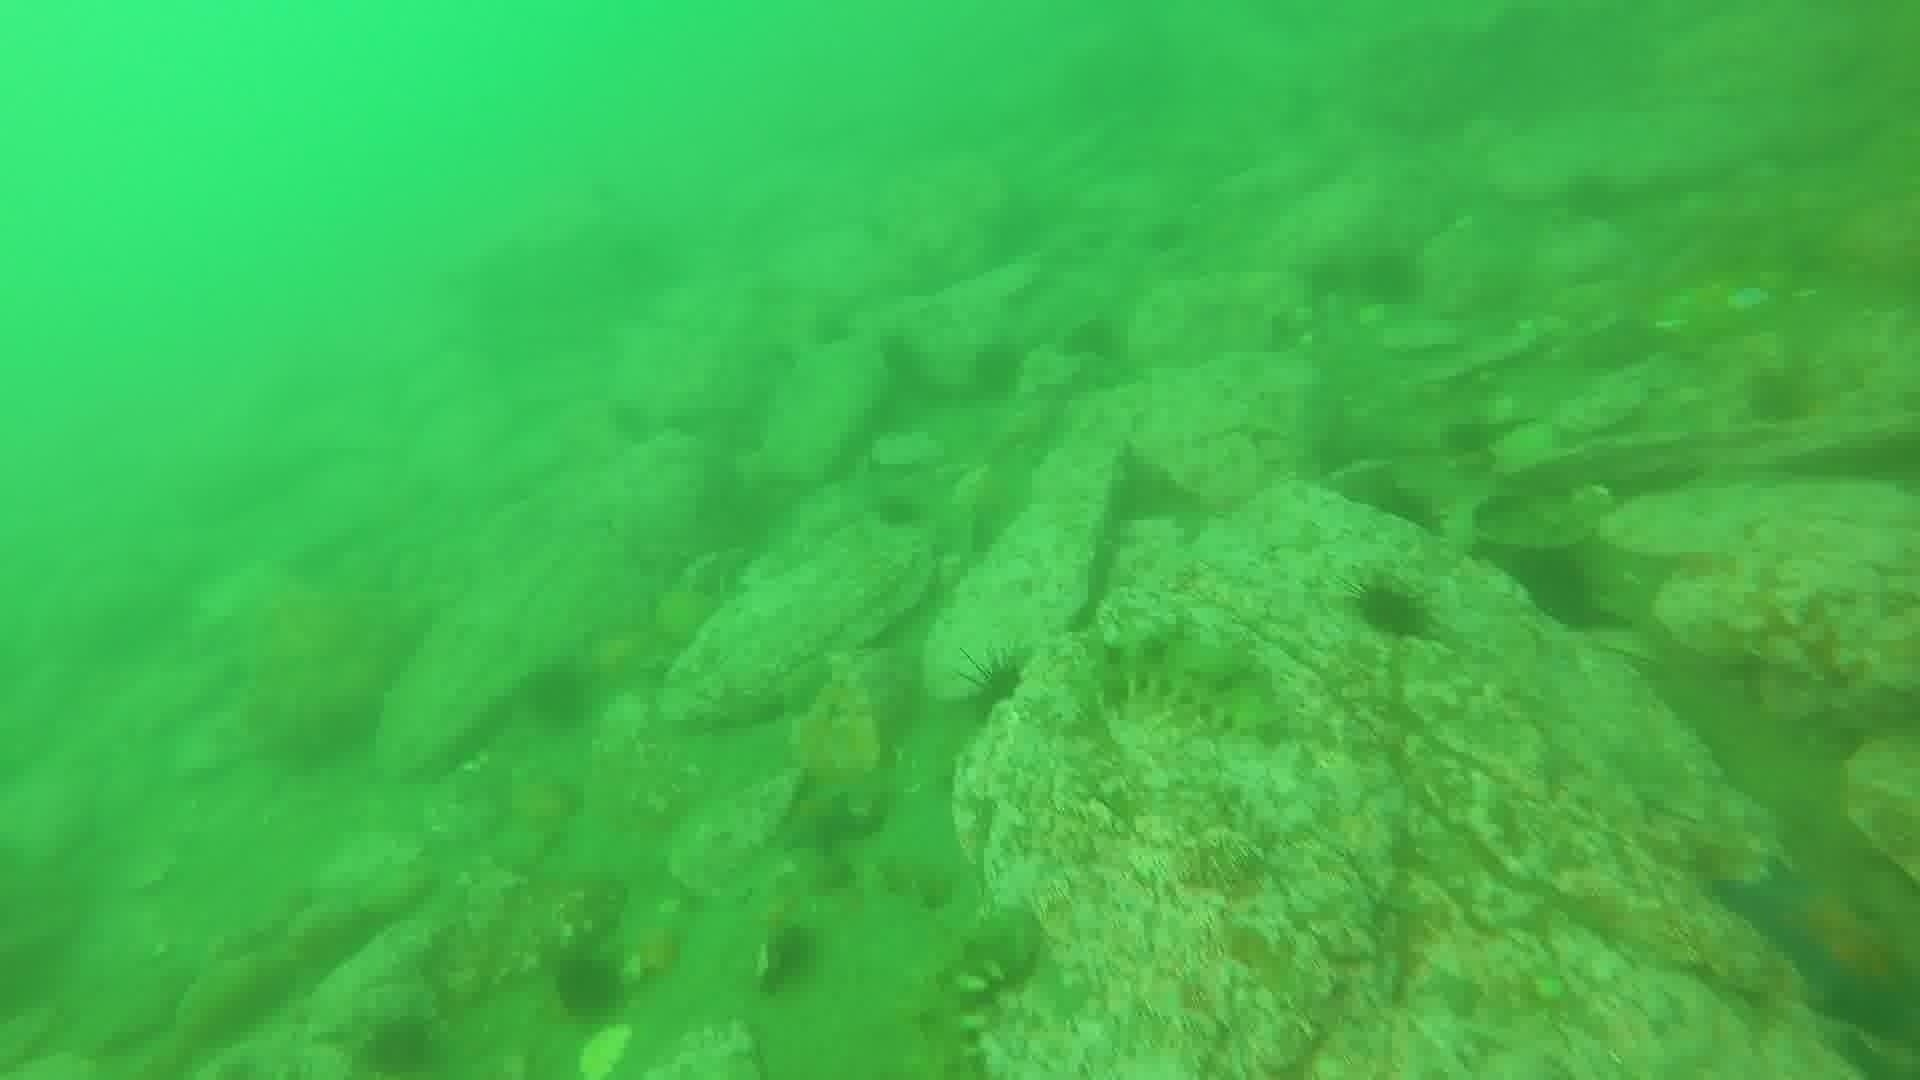echinus: (1505, 542, 1607, 636), (952, 646, 1036, 741), (1362, 473, 1455, 549), (1352, 560, 1443, 636), (546, 945, 630, 1026), (753, 916, 837, 997), (517, 655, 599, 735), (355, 1010, 446, 1076), (1739, 363, 1821, 431), (1352, 243, 1428, 313), (964, 335, 1030, 405), (1059, 311, 1129, 369), (872, 477, 928, 525), (866, 328, 924, 375), (597, 392, 655, 438), (1145, 220, 1203, 266)
holothurian: (1083, 622, 1292, 741), (898, 907, 1040, 1080)
scallop: (1838, 725, 1920, 891)
starfish: (1714, 861, 1916, 1047)
